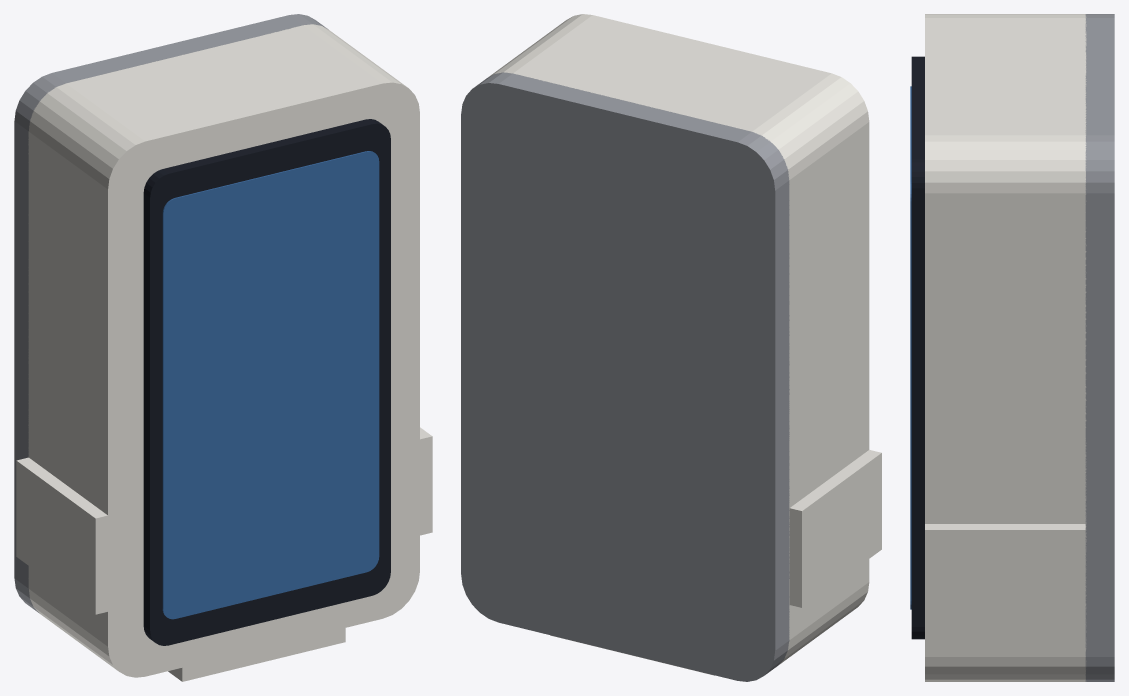
Rendered from device.canary-display-nightstand-c6.glb.
The picture shows the model from 3 angles, left to right: view 1: azimuth 30°, elevation 25°; view 2: azimuth 150°, elevation 25°; view 3: azimuth 270°, elevation 25°; orthographic projection.
Size of the model in its own units: 0.0271 by 0.0423 by 0.0141.
